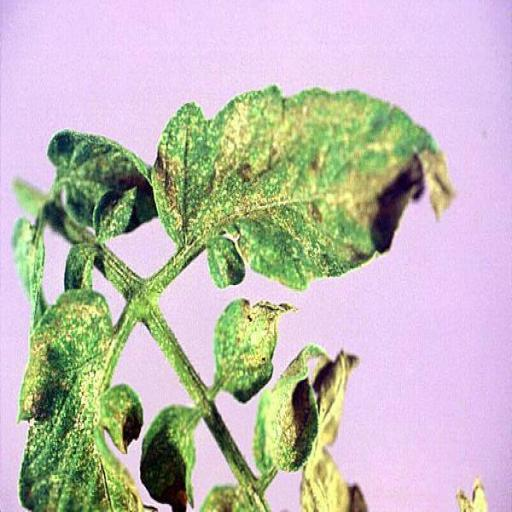disease_tomato: (152, 79, 455, 290), (15, 286, 145, 512), (250, 342, 334, 476), (214, 293, 296, 405)
